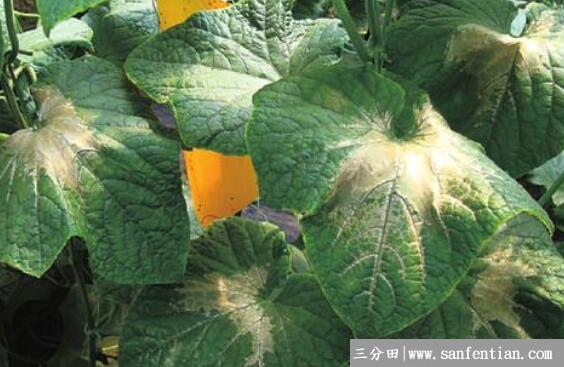cucumber_plant: (257, 59, 527, 332), (9, 44, 195, 283)
